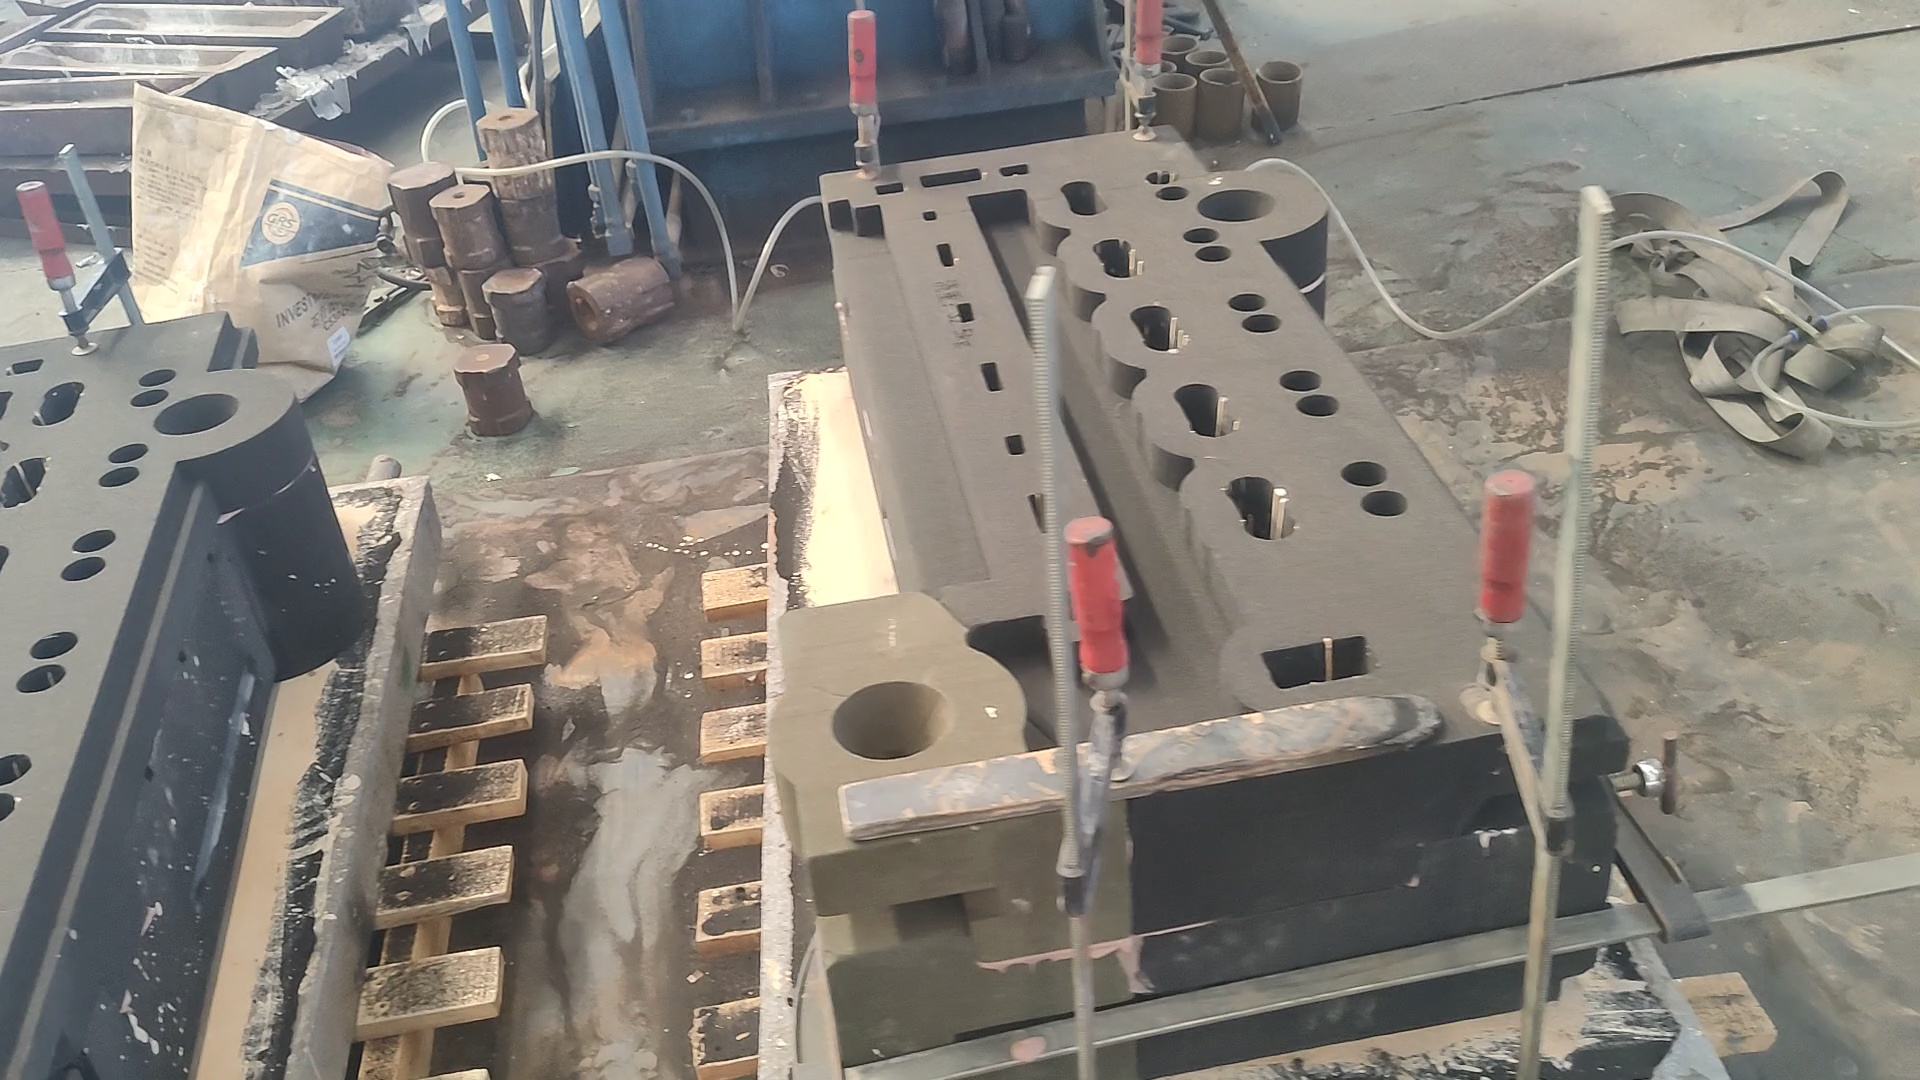pouring hole: (831, 680, 953, 760), (153, 393, 239, 436), (1196, 189, 1275, 223), (1255, 61, 1302, 83), (1153, 34, 1200, 53), (1185, 49, 1233, 65), (1153, 74, 1193, 90), (1203, 69, 1240, 84), (1131, 59, 1174, 73)
